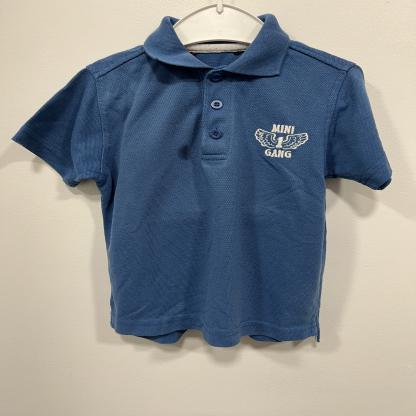stain: (173, 144, 196, 163)
